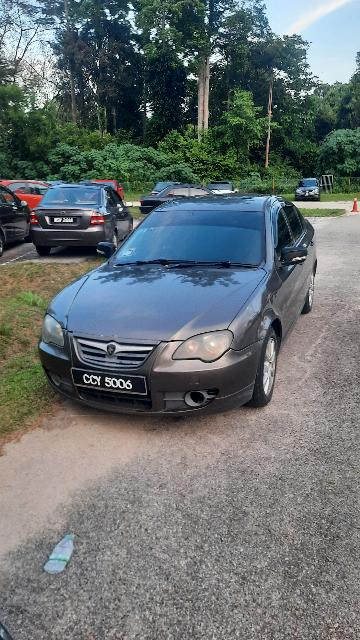License_Plate: (69, 365, 152, 402)
car: (29, 190, 323, 416)
